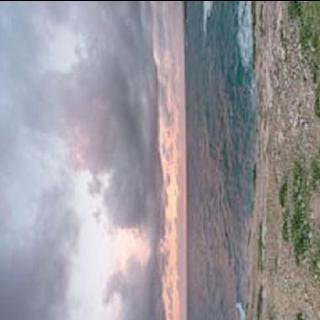Stratus: (0, 0, 173, 320)
